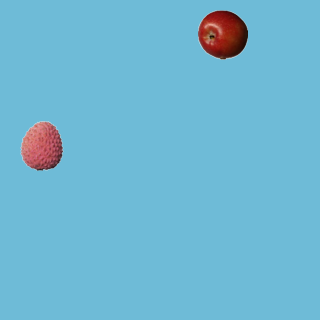Apple Braeburn: (197, 9, 247, 59)
Lychee: (16, 120, 66, 170)
